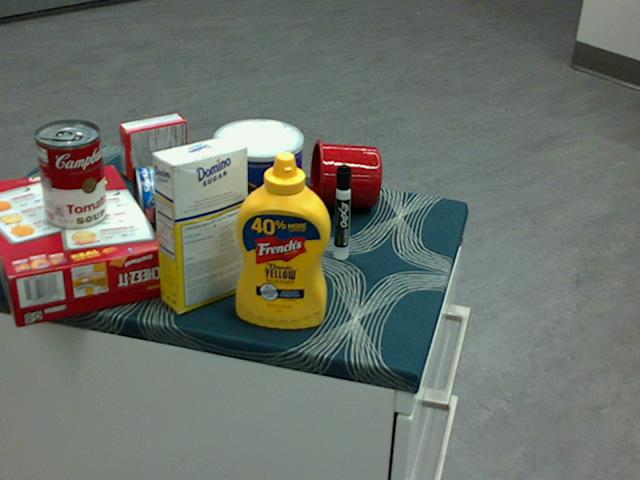cracker_box: (0, 163, 168, 326)
gelatin_box: (118, 113, 186, 179)
large_marker: (334, 164, 351, 259)
master_chef_can: (211, 117, 301, 262)
mug: (308, 137, 380, 209)
mustard_bottle: (235, 150, 331, 328)
potted_meat_can: (187, 128, 267, 216)
sugar_box: (151, 136, 248, 312)
tomato_soup_can: (34, 119, 106, 229)
tuna_fish_can: (130, 165, 166, 236)
